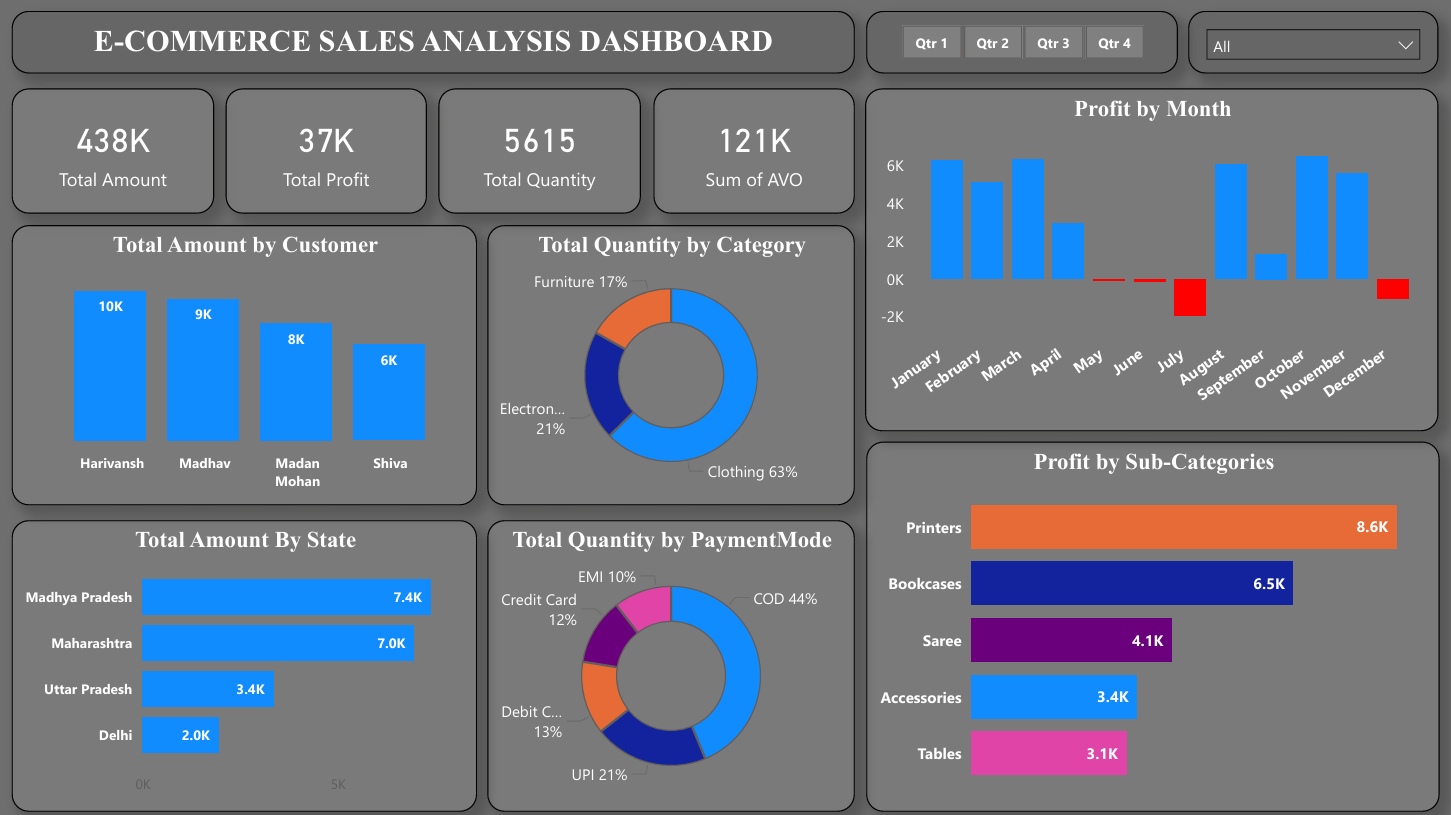

This screenshot's page, from the dashboard's own definition file:
{"tool":"powerbi","page":{"name":"Page 1","canvas":[1280,720],"ordinal":0},"visuals":[{"type":"textbox","box":[10,11.2,741.2,55],"z":0},{"type":"barChart","title":"Profit by Sub-Categories","fields":{"Y":["Sum(Details.Profit)"],"Category":["Details.Sub-Category"]},"box":[761.2,388.8,503.8,325],"z":1000},{"type":"donutChart","title":"Total Quantity by Category","fields":{"Category":["Details.Category"],"Y":["Sum(Details.Quantity)"]},"box":[427.5,198.8,323.8,246.2],"z":2000},{"type":"donutChart","title":"Total Quantity by PaymentMode","fields":{"Y":["Sum(Details.Quantity)"],"Category":["Details.PaymentMode"]},"box":[427.5,457.5,323.8,256.2],"z":3000},{"type":"card","fields":{"Values":["Sum(Details.Amount)"]},"box":[10,78.8,178,110],"z":4000},{"type":"card","fields":{"Values":["Sum(Details.AVO)"]},"box":[573.8,78.8,177.5,110],"z":5000},{"type":"card","fields":{"Values":["Sum(Details.Quantity)"]},"box":[385,78.8,177.5,110],"z":6000},{"type":"card","fields":{"Values":["Sum(Details.Profit)"]},"box":[197.5,78.8,177.5,110],"z":7000},{"type":"barChart","title":"Total Amount By State","fields":{"Category":["Orders.State"],"Y":["Sum(Details.Profit)"]},"box":[10,457.5,408.8,256.2],"z":8000},{"type":"columnChart","title":"Total Amount by Customer","fields":{"Category":["Orders.CustomerName"],"Y":["Sum(Details.Amount)"]},"box":[10,198.8,408.8,246.2],"z":9000},{"type":"slicer","fields":{"Values":["Orders.State"]},"box":[1043.8,11.2,220,55],"z":10000},{"type":"slicer","fields":{"Values":["Orders.Order Date.Variation.Date Hierarchy.Quarter"]},"box":[761.2,11.2,273.8,55],"z":11000},{"type":"clusteredColumnChart","title":" Profit by Month","fields":{"Category":["Orders.Order Date.Variation.Date Hierarchy.Month"],"Y":["Sum(Details.Profit)"]},"box":[760,78.8,503.8,301.2],"z":12000}]}

Visuals, with their boxes in screenshot pixels (x1, y1, x2, y2), scaled from the page's 1280x720 canvas onto the 1451x815 screenshot:
textbox: rect(11, 13, 852, 75)
"Profit by Sub-Categories" barChart: rect(863, 440, 1434, 808)
"Total Quantity by Category" donutChart: rect(485, 225, 852, 504)
"Total Quantity by PaymentMode" donutChart: rect(485, 518, 852, 808)
card - Sum(Details.Amount): rect(11, 89, 213, 214)
card - Sum(Details.AVO): rect(650, 89, 852, 214)
card - Sum(Details.Quantity): rect(436, 89, 638, 214)
card - Sum(Details.Profit): rect(224, 89, 425, 214)
"Total Amount By State" barChart: rect(11, 518, 475, 808)
"Total Amount by Customer" columnChart: rect(11, 225, 475, 504)
slicer - Orders.State: rect(1183, 13, 1433, 75)
slicer - Orders.Order Date.Variation.Date Hierarchy.Quarter: rect(863, 13, 1173, 75)
" Profit by Month" clusteredColumnChart: rect(862, 89, 1433, 430)
